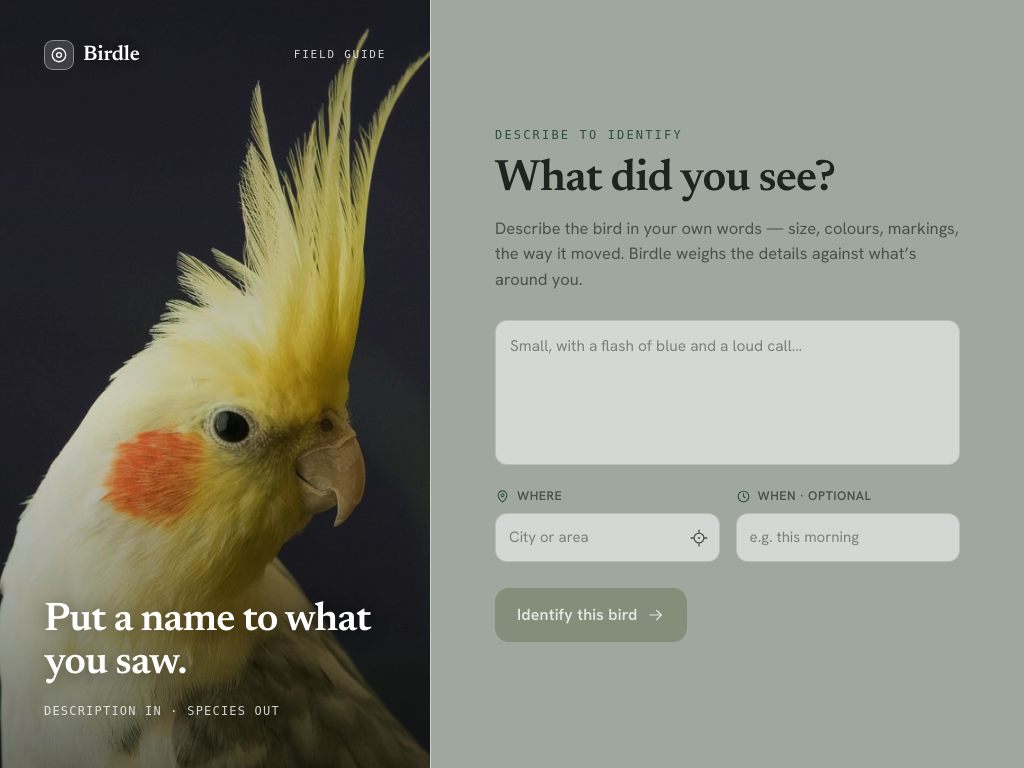
Test: Home — HITL conversation flow › renders a clarifying question when the stream pauses
The image size is (1024, 768).
Type "small red bird with a crest" into the text box named "what did you see" at coordinates (728, 393), box [495, 320, 960, 465]
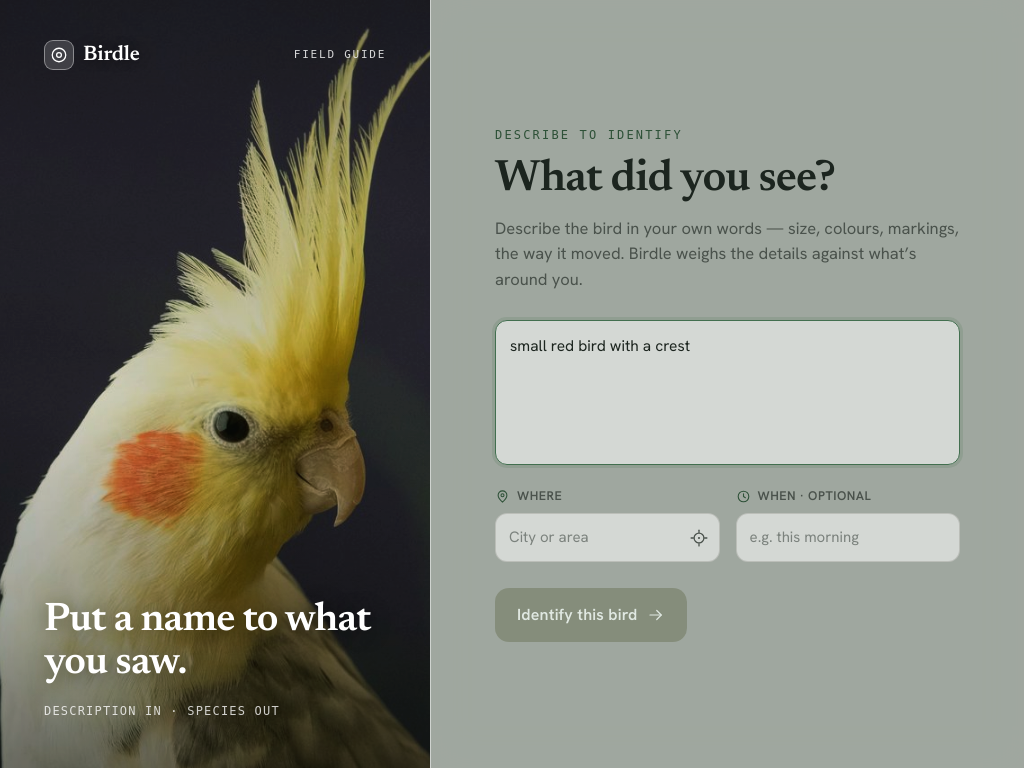
Type "New York" into the field labelled "Where" at coordinates (607, 538), box [495, 514, 720, 562]
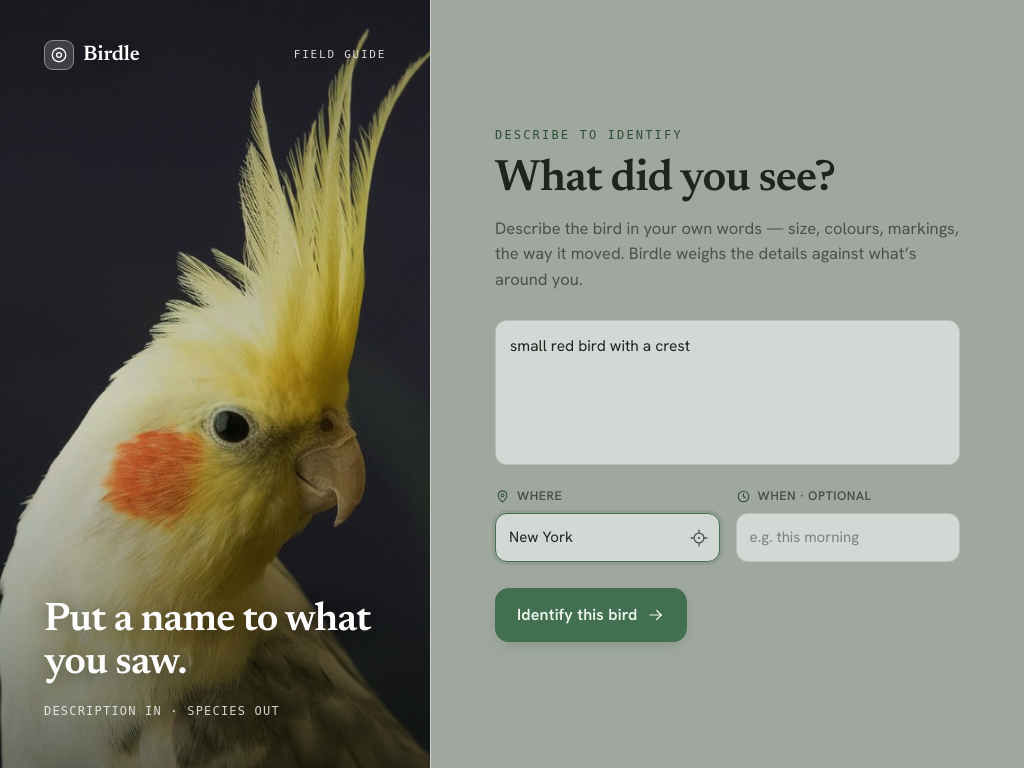
Click the button "Identify this bird" at coordinates (591, 615), box [495, 588, 687, 642]
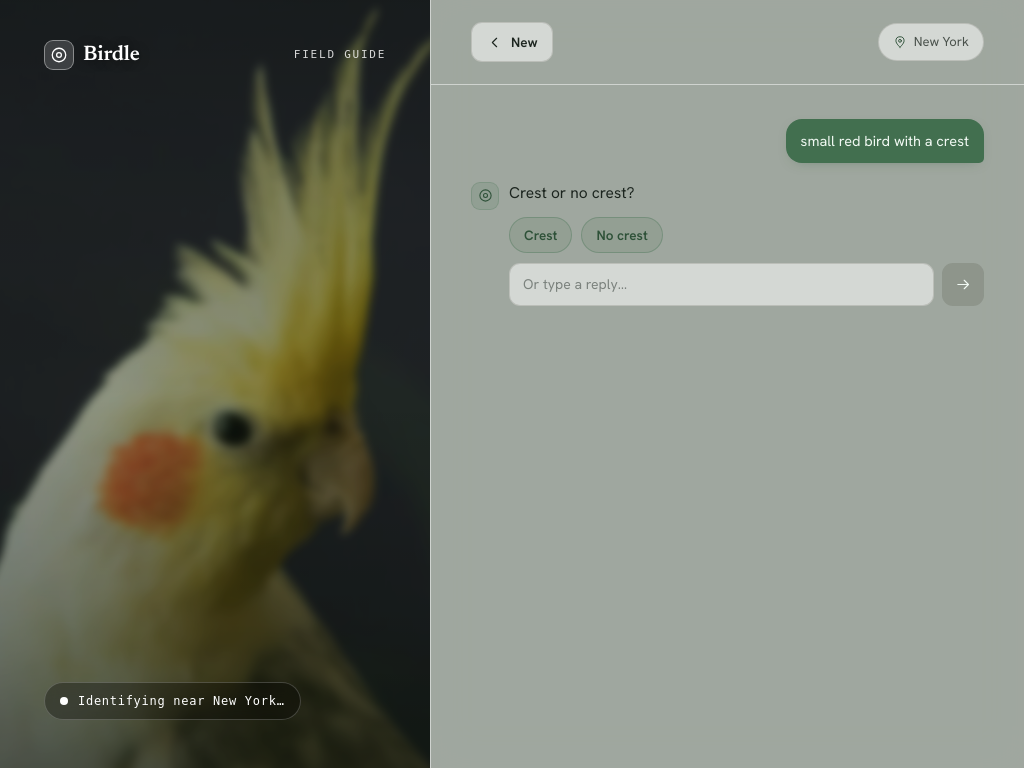
Result: the text "Crest or no crest?" is shown at [509, 182, 635, 203]
Result: the button "Crest" is shown at [509, 217, 572, 253]
